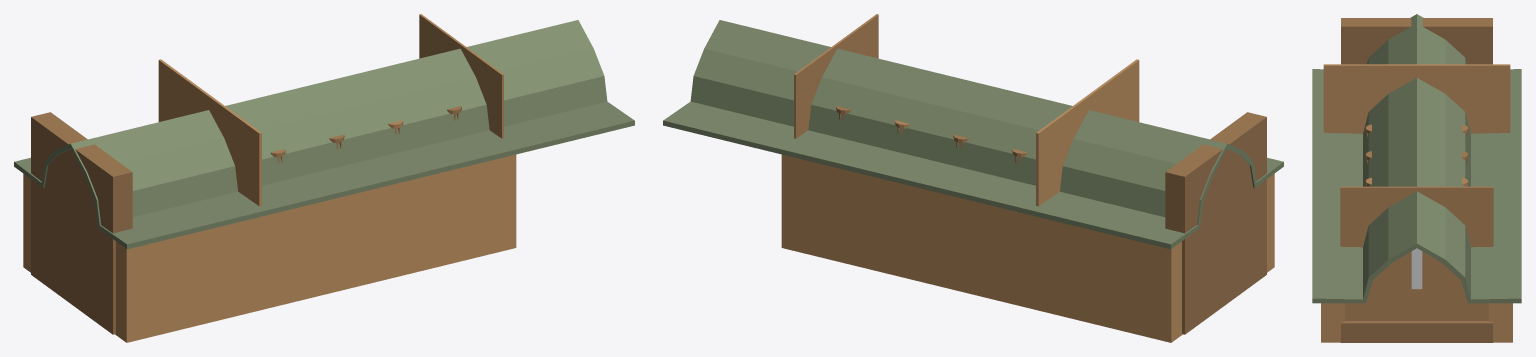
File: thecathedral.glb
The picture shows the model from 3 angles, left to right: view 1: azimuth 30°, elevation 25°; view 2: azimuth 150°, elevation 25°; view 3: azimuth 270°, elevation 25°; orthographic projection. The views are drawn at different scales.
Parts seen in each view (by area): view 1: Cylinder.003, Plane.001, Plane, Plane.002, Cube.002; view 2: Cylinder.003, Plane.001, Plane, Plane.002, Cube.002; view 3: Cylinder.003, Cube.002, Plane.002, Plane, Plane.001, Plane.003.
Boxes of the visible parts, x1,y1,x2,y2 form: Cylinder.003: (14, 20, 634, 249); Plane.001: (23, 154, 516, 342); Plane: (31, 112, 132, 334); Plane.002: (158, 59, 261, 206); Cube.002: (419, 14, 503, 138); Cylinder.003: (663, 20, 1283, 249); Plane.001: (781, 154, 1274, 342); Plane: (1165, 112, 1266, 334); Plane.002: (1036, 59, 1139, 206); Cube.002: (794, 14, 878, 138); Cylinder.003: (1312, 14, 1521, 303); Cube.002: (1340, 186, 1493, 342); Plane.002: (1323, 64, 1510, 133); Plane: (1341, 18, 1492, 342); Plane.001: (1321, 303, 1512, 342); Plane.003: (1411, 248, 1422, 288).
Bounding box in the file's own units: 60.49 × 20.14 × 23.31.
